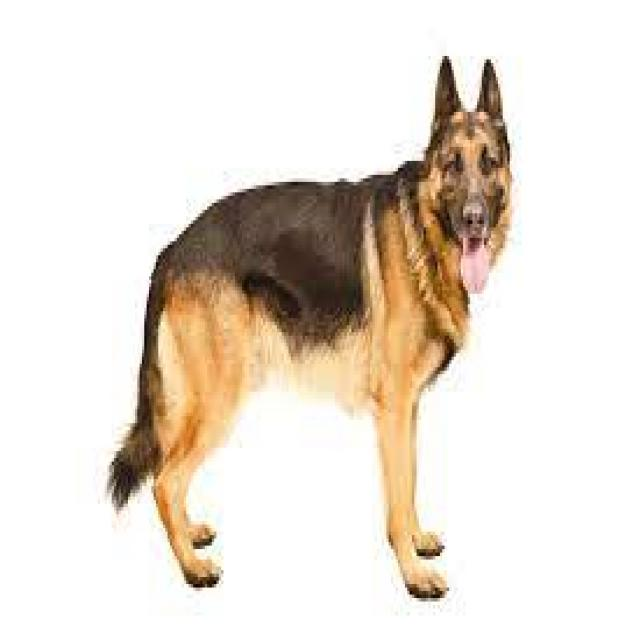Dog: (97, 44, 520, 609)
